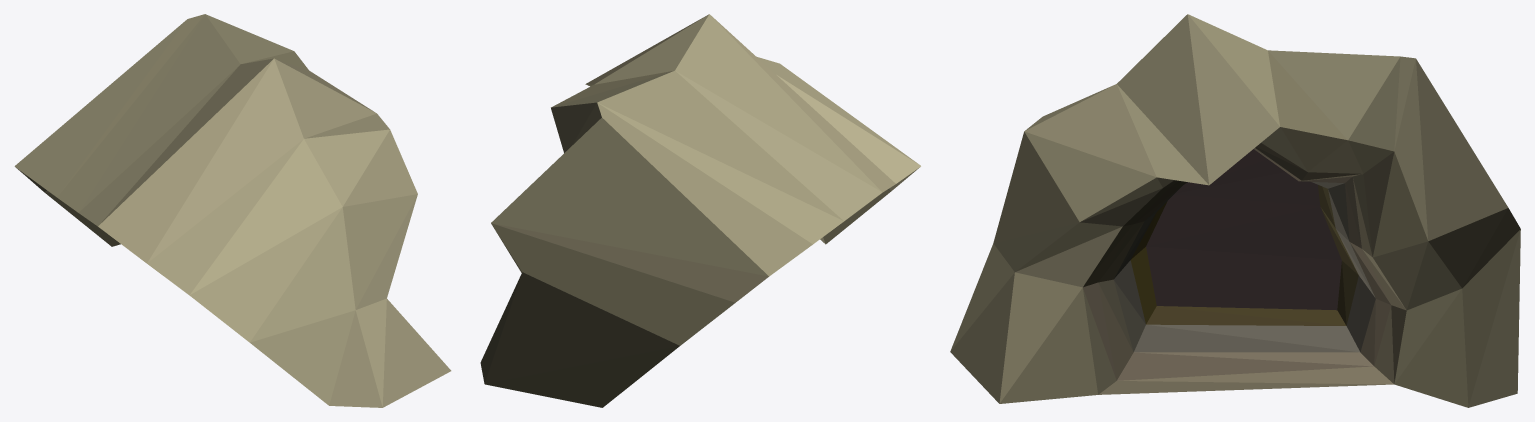
Rendered from dcave.fbx.
3 views of the same model, side by side, from view 1: azimuth 30°, elevation 25°; view 2: azimuth 150°, elevation 25°; view 3: azimuth 270°, elevation 25° (orthographic). The views are drawn at different scales.
Visible parts, largest first — view 1: Object Cave 2024-03-16_08-18-44; view 2: Object Cave 2024-03-16_08-18-44; view 3: Object Cave 2024-03-16_08-18-44.
Part boxes in pixels (<box>): Object Cave 2024-03-16_08-18-44: <box>14,14,451,407</box>; Object Cave 2024-03-16_08-18-44: <box>480,14,920,407</box>; Object Cave 2024-03-16_08-18-44: <box>950,14,1520,407</box>.
Bounding box in the file's own units: 25400 × 23800 × 37000.
